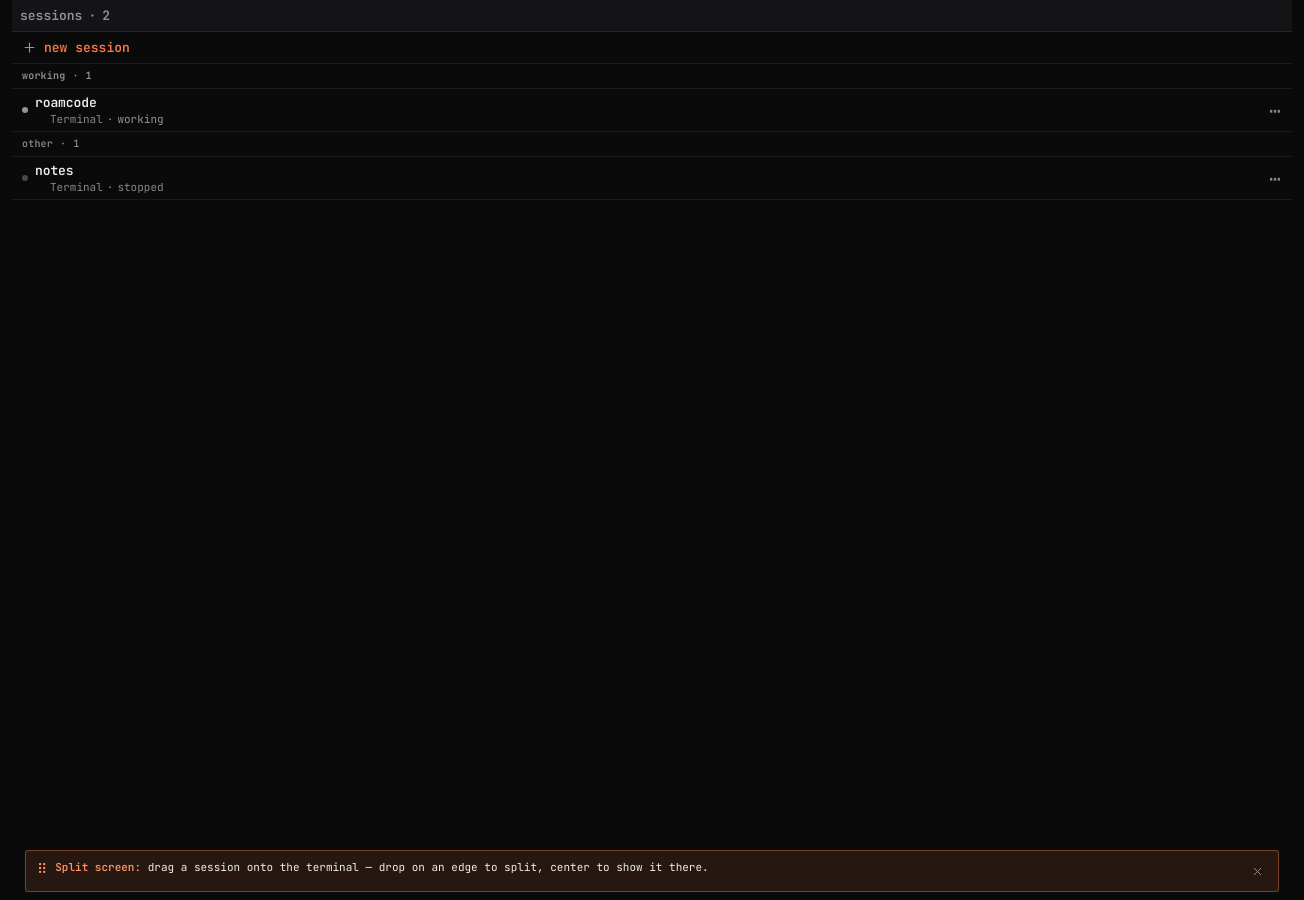
Scenario: SessionList › advertises the split drag (desktop): draggable rows with a tooltip + a one-time coach hint
The image size is (1304, 900).
Check: the text "drag a session onto the terminal" is shown, box [141,860,709,874]
Click the button named "dismiss hint" at x=1256, y=871, box [1245,860,1267,882]
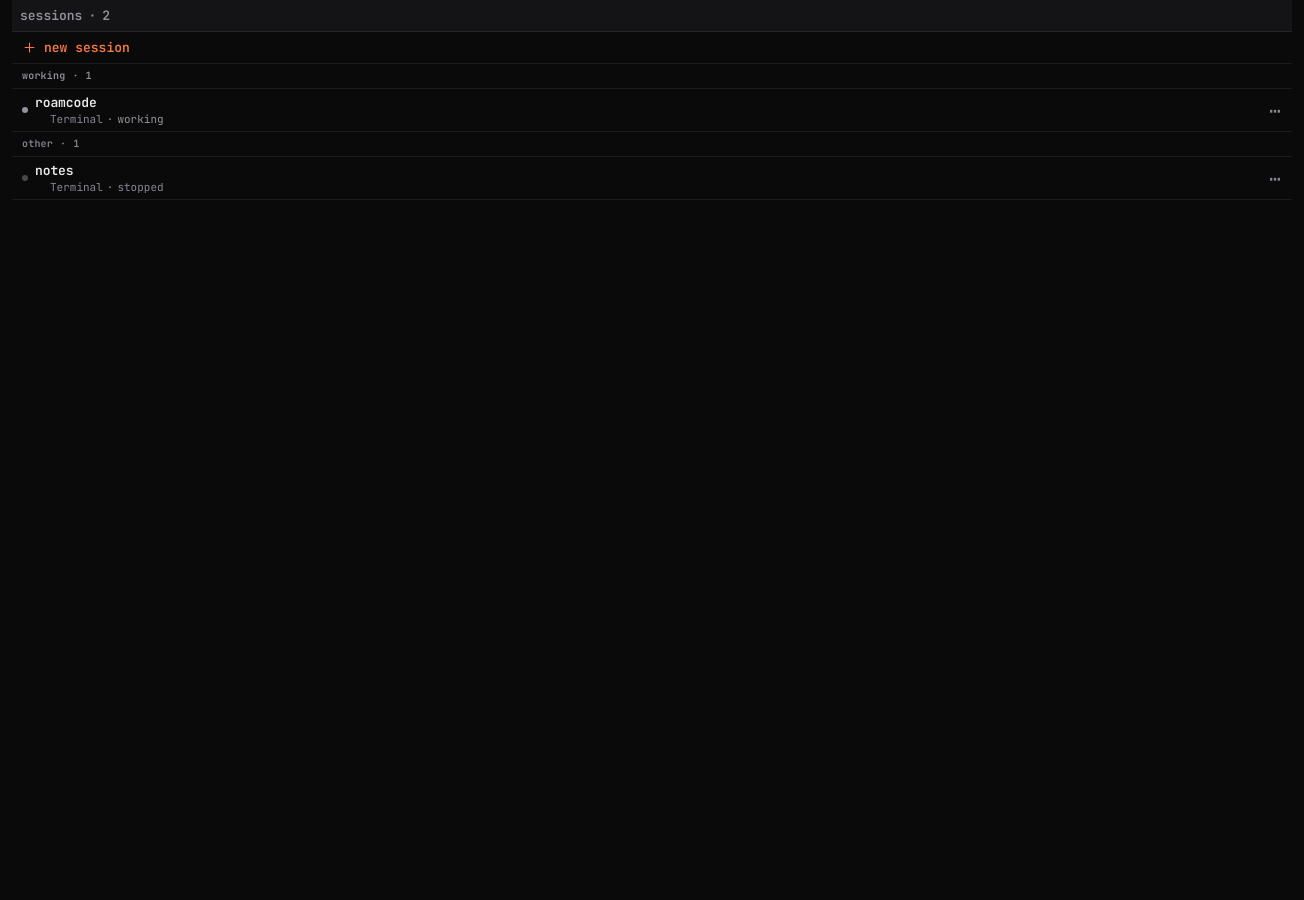
Check: the text "drag a session onto the terminal" is gone
